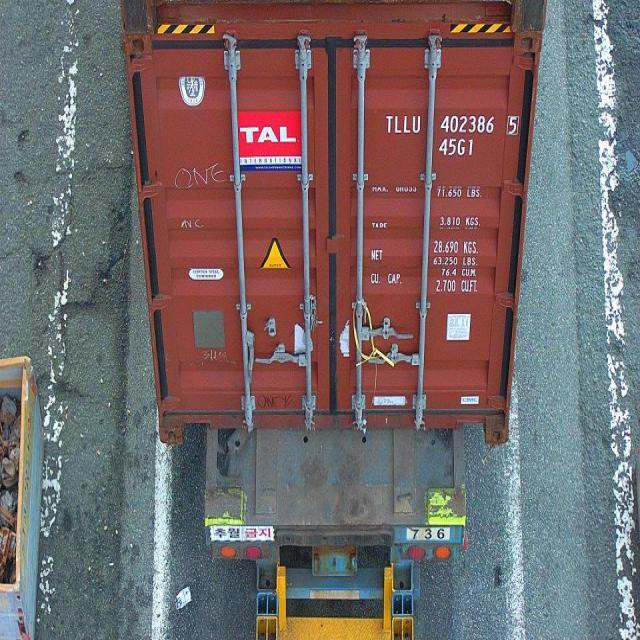ISO: (437, 139, 474, 156)
container_number: (384, 114, 514, 137)
